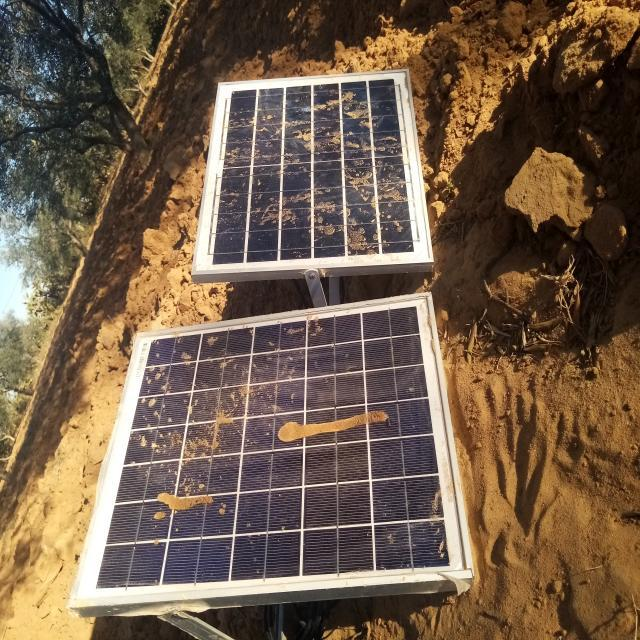faulty: (74, 294, 471, 601), (194, 69, 432, 272)
